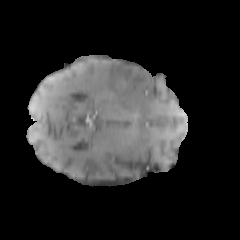glioma: (46, 58, 155, 105)
